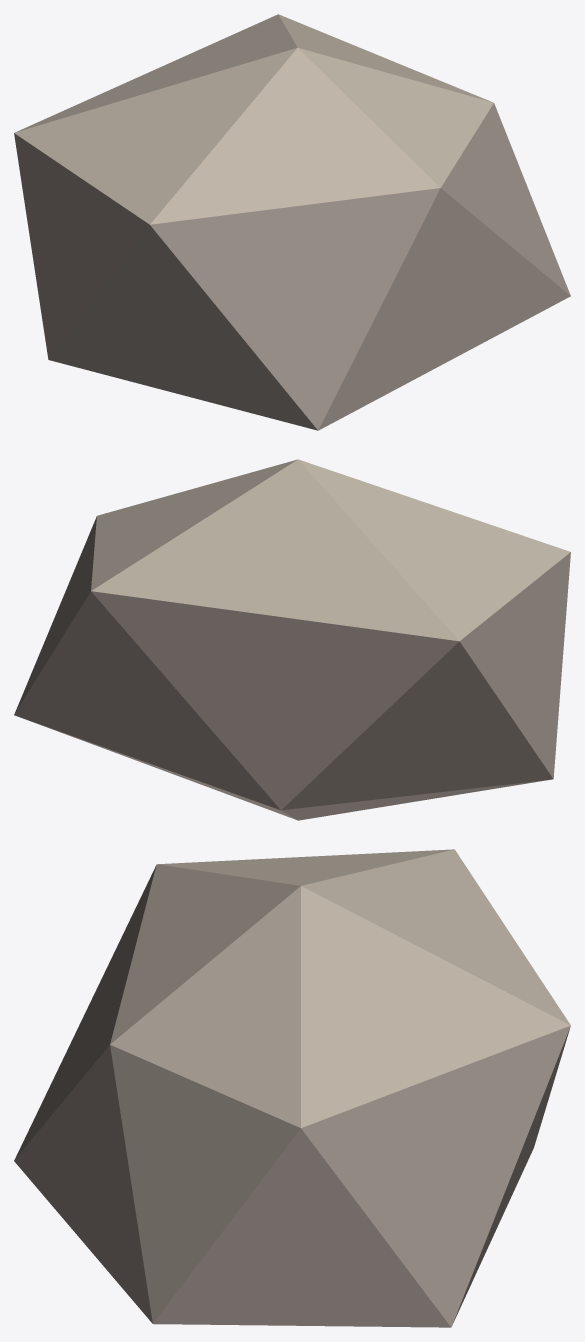
The model's file is rock_shard.glb.
3 views of the same model, one above another, from view 1: azimuth 30°, elevation 25°; view 2: azimuth 150°, elevation 25°; view 3: azimuth 270°, elevation 25° (orthographic). The views are drawn at different scales.
Visible parts, largest first — view 1: rock_shard; view 2: rock_shard; view 3: rock_shard.
Boxes of the visible parts, left/top/right/bottom form: rock_shard: left=14, top=14, right=570, bottom=430; rock_shard: left=14, top=459, right=570, bottom=820; rock_shard: left=14, top=849, right=570, bottom=1327.
Size of the model in its own units: 0.234 by 0.1696 by 0.1992.
